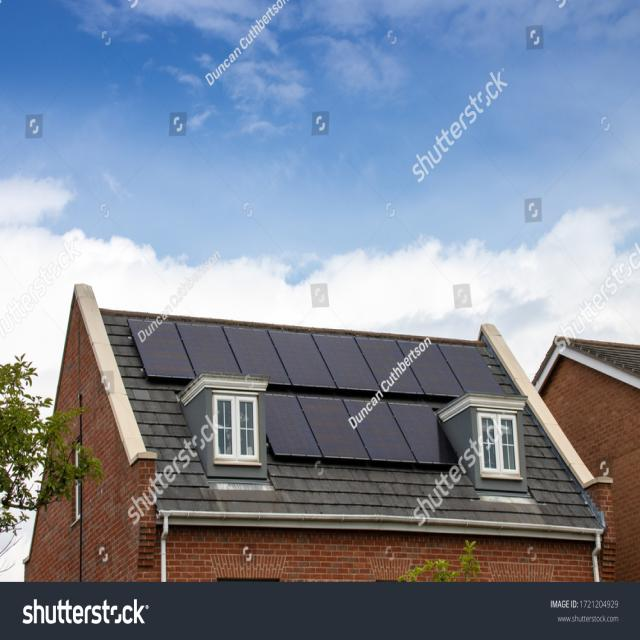clean-solar-panel: (129, 318, 502, 465)
